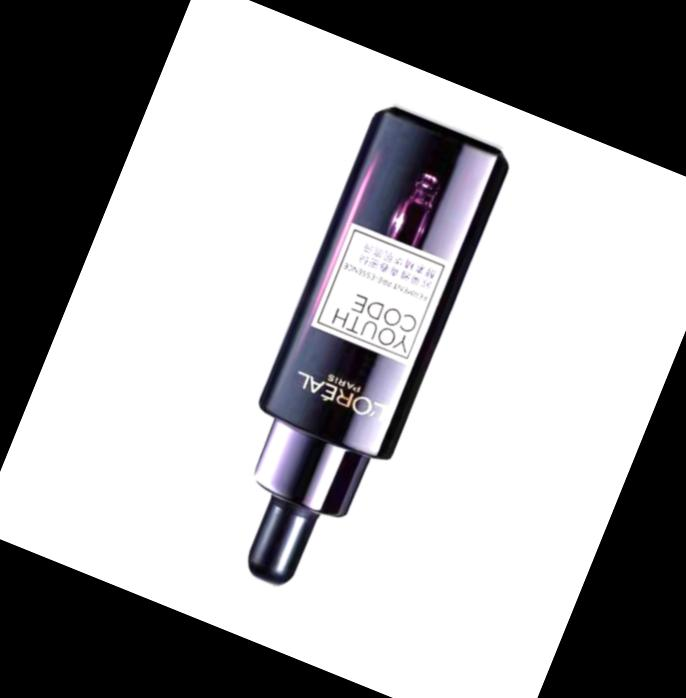cosmetic: (198, 102, 511, 608)
